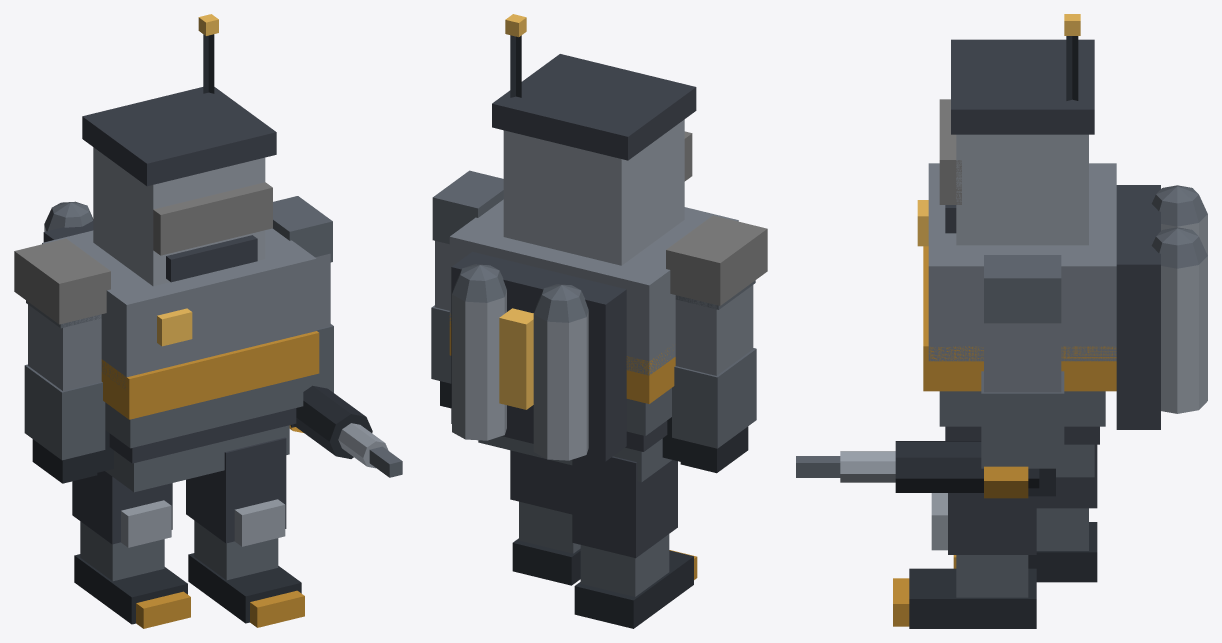
Rendered from engineer.obj.
3 renders of one model, left to right at view 1: azimuth 30°, elevation 25°; view 2: azimuth 150°, elevation 25°; view 3: azimuth 270°, elevation 25°, orthographic. The views are drawn at different scales.
Parts seen in each view (by area): view 1: engineer; view 2: engineer; view 3: engineer.
Part boxes in pixels (left/top/right/bottom): engineer: left=14, top=14, right=402, bottom=628; engineer: left=431, top=14, right=767, bottom=628; engineer: left=796, top=14, right=1207, bottom=628.
Bounding box in the file's own units: 1.31 × 2.4 × 1.49.
